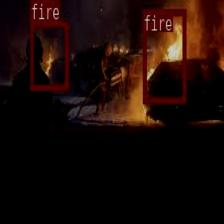fire: (142, 8, 186, 102), (30, 20, 68, 90)
